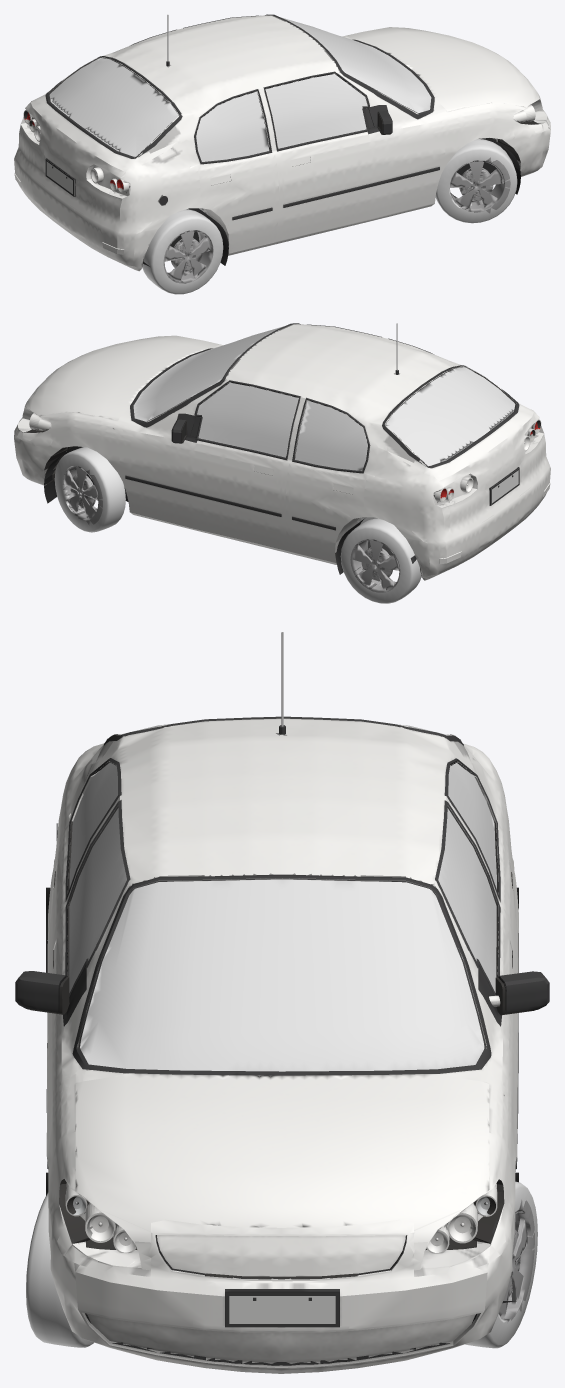
File: hatch-redondo-5p.glb
3 views of the same model, one above another, from view 1: azimuth 30°, elevation 25°; view 2: azimuth 150°, elevation 25°; view 3: azimuth 270°, elevation 25° (orthographic). The views are drawn at different scales.
Parts seen in each view (by area): view 1: body, door_fr, trunk, hood, glass_rear, door_rr, glass_door_fr, glass_windshield, bumper_rear, glass_door_rr, fender_front_right, wheel_rr_tire (+6 smaller); view 2: body, door_fl, hood, trunk, glass_rear, door_rl, glass_door_fl, glass_windshield, bumper_rear, glass_door_rl, fender_front_left, wheel_rl_tire (+6 smaller); view 3: body, glass_windshield, hood, bumper_front, grille, plate_front, glass_door_fl, glass_door_fr, door_fl, door_fr, fender_front_right, fender_front_left (+10 smaller).
Boxes of the visible parts, box(x1,y1,x2,y2) form: body: box(15, 14, 548, 270); door_fr: box(263, 71, 444, 243); trunk: box(17, 56, 182, 229); hood: box(345, 27, 540, 111); glass_rear: box(49, 58, 178, 156); door_rr: box(194, 89, 278, 254); glass_door_fr: box(266, 74, 367, 148); glass_windshield: box(281, 17, 431, 113); bumper_rear: box(14, 157, 152, 270); glass_door_rr: box(196, 91, 269, 161); fender_front_right: box(433, 97, 543, 167); wheel_rr_tire: box(142, 208, 223, 294); body: box(16, 323, 549, 580); door_fl: box(120, 380, 300, 553); hood: box(25, 335, 220, 420); trunk: box(382, 365, 547, 538); glass_rear: box(386, 367, 515, 465); door_rl: box(286, 397, 370, 564); glass_door_fl: box(197, 382, 298, 457); glass_windshield: box(133, 326, 284, 421); bumper_rear: box(412, 466, 550, 580); glass_door_rl: box(295, 400, 367, 470); fender_front_left: box(22, 407, 130, 477); wheel_rl_tire: box(340, 517, 421, 603); body: box(30, 632, 534, 1303); glass_windshield: box(80, 879, 484, 1071); hood: box(75, 1073, 489, 1251); bumper_front: box(49, 1225, 514, 1373); grille: box(151, 1219, 413, 1282); plate_front: box(215, 1282, 349, 1327); glass_door_fl: box(438, 808, 496, 992); glass_door_fr: box(69, 808, 126, 992); door_fl: box(435, 800, 518, 1168); door_fr: box(46, 800, 130, 1168); fender_front_right: box(46, 1070, 128, 1255); fender_front_left: box(426, 1070, 517, 1255).
Size of the model in its own units: 3.85 by 1.8 by 1.91.
Materials: 10 (6 with a texture image).
